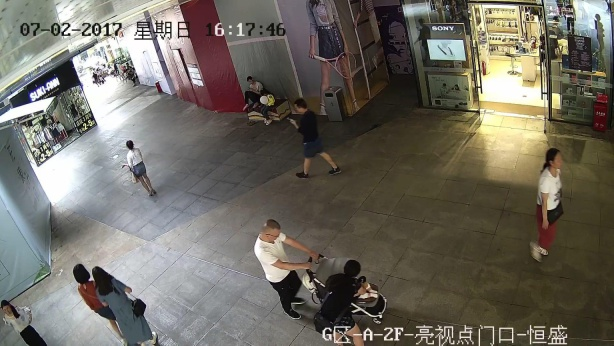person: (525, 144, 574, 269), (315, 260, 385, 346), (254, 219, 312, 320), (91, 266, 164, 344), (286, 97, 344, 181), (72, 266, 118, 340), (120, 138, 171, 202), (1, 300, 51, 345), (242, 76, 266, 109)
